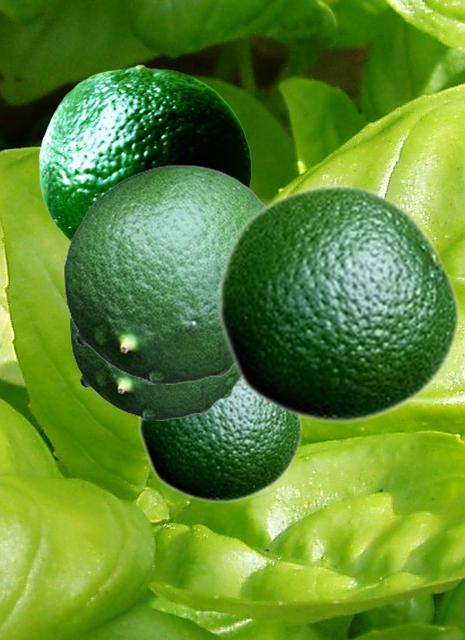calamansi: (216, 183, 460, 424), (63, 164, 265, 383), (39, 64, 250, 241), (137, 383, 302, 503), (69, 316, 239, 419)
